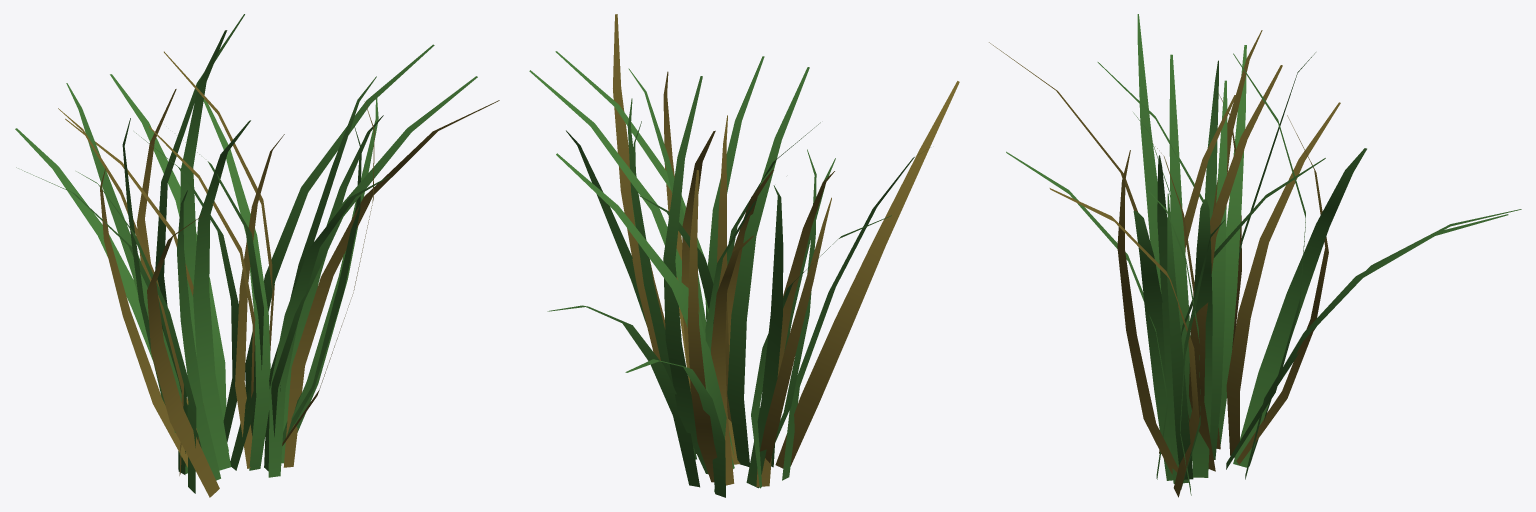
File: Leaves_005.fbx
The picture shows the model from 3 angles, left to right: view 1: azimuth 30°, elevation 25°; view 2: azimuth 150°, elevation 25°; view 3: azimuth 270°, elevation 25°; orthographic projection. The views are drawn at different scales.
Visible parts, largest first — view 1: Leaves.005; view 2: Leaves.005; view 3: Leaves.005.
Boxes of the visible parts, x1,y1,x2,y2 form: Leaves.005: (15,14,499,497); Leaves.005: (529,14,959,497); Leaves.005: (989,14,1521,497).
Size of the model in its own units: 29.3 by 29.42 by 33.38.
